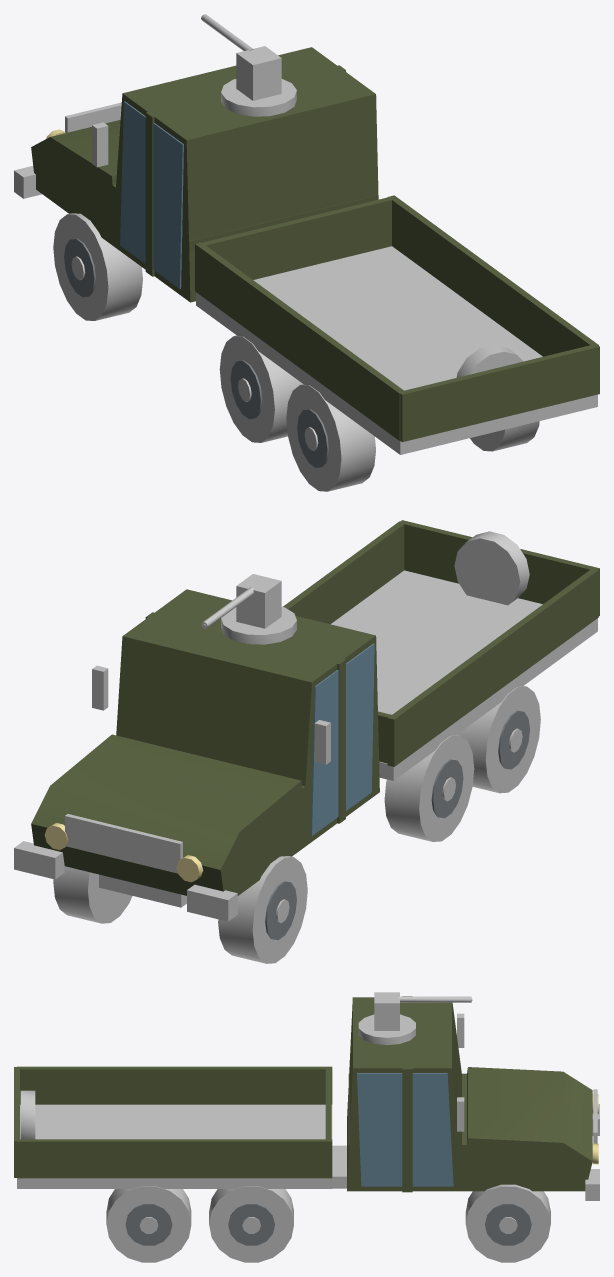
File: ural_defender_m249.obj
3 renders of one model, top to bottom at view 1: azimuth 30°, elevation 25°; view 2: azimuth 150°, elevation 25°; view 3: azimuth 270°, elevation 25°, orthographic. The views are drawn at different scales.
Parts seen in each view (by area): view 1: model; view 2: model; view 3: model.
Part boxes in pixels (x1,y1,x2,y2): model: (14,14,599,491); model: (14,520,599,963); model: (14,992,599,1262).
Size of the model in its own units: 2.84 by 3.43 by 7.99.
